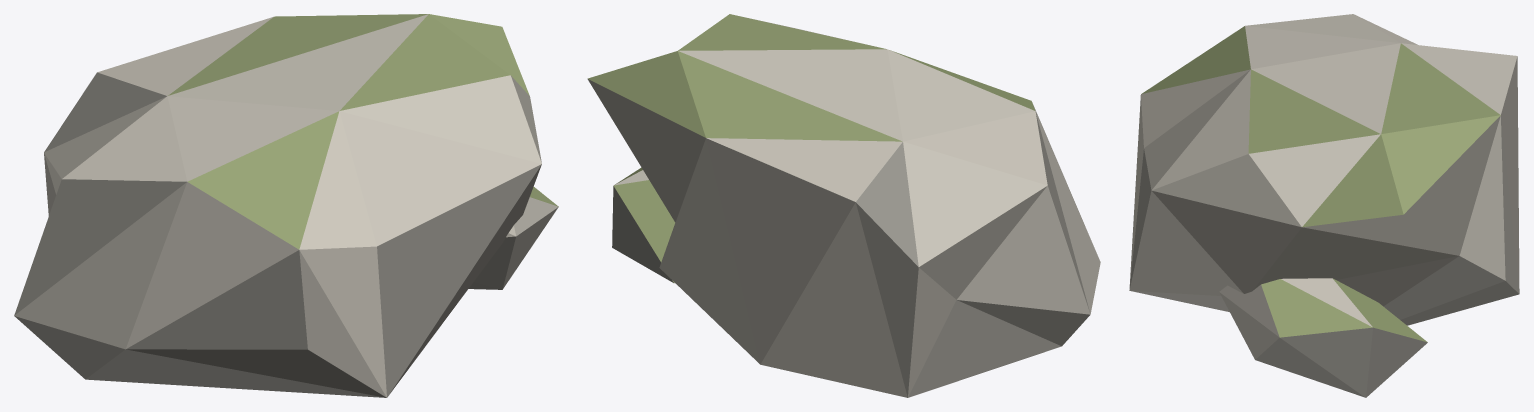
File: Boulder_3.glb
3 renders of one model, left to right at view 1: azimuth 30°, elevation 25°; view 2: azimuth 150°, elevation 25°; view 3: azimuth 270°, elevation 25°, orthographic. The views are drawn at different scales.
Visible parts, largest first — view 1: Boulder_3; view 2: Boulder_3; view 3: Boulder_3.
Part boxes in pixels (box(x1,y1,x2,y2)): Boulder_3: box(14, 14, 558, 397); Boulder_3: box(587, 14, 1100, 397); Boulder_3: box(1129, 14, 1519, 397).
Bounding box in the file's own units: 1.31 × 0.61 × 0.8943.
